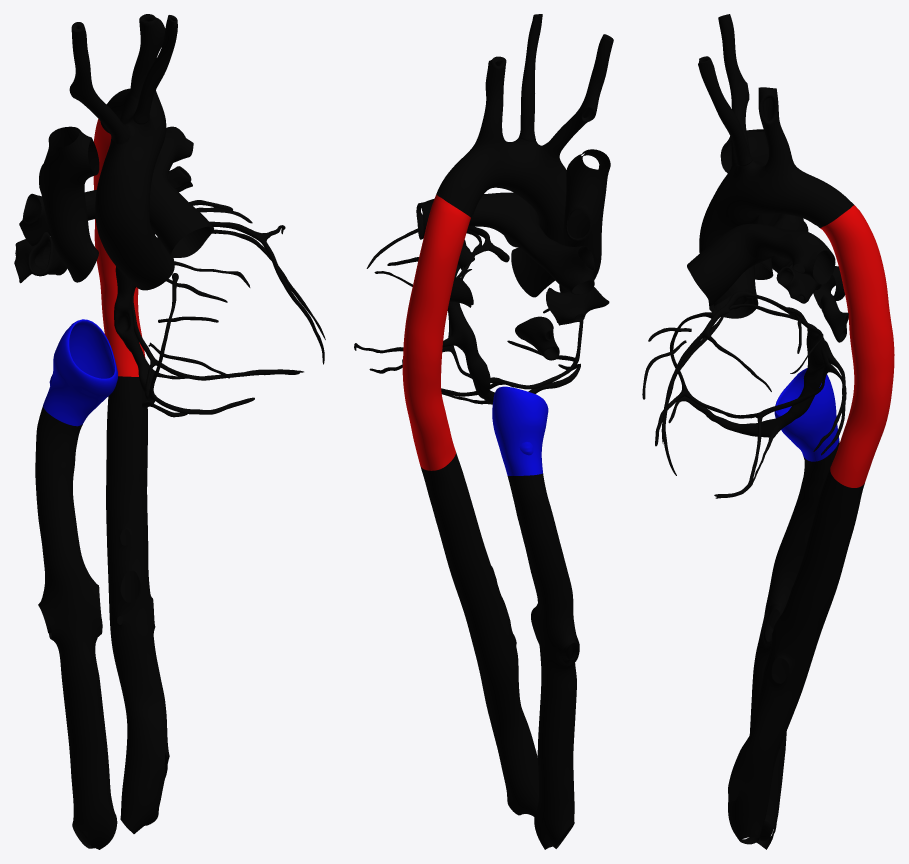
Rendered from VH_F_Heart_Landmarks.fbx.
3 views of the same model, side by side, from view 1: azimuth 30°, elevation 25°; view 2: azimuth 150°, elevation 25°; view 3: azimuth 270°, elevation 25° (orthographic). The views are drawn at different scales.
Visible parts, largest first — view 1: VH_F_heart_landmark_arteries, VH_F_heart_landmark_veins; view 2: VH_F_heart_landmark_arteries, VH_F_heart_landmark_veins; view 3: VH_F_heart_landmark_arteries, VH_F_heart_landmark_veins.
Part boxes in pixels (x1,y1,x2,y2): VH_F_heart_landmark_arteries: (19, 14, 324, 833); VH_F_heart_landmark_veins: (14, 126, 325, 849); VH_F_heart_landmark_arteries: (366, 14, 613, 816); VH_F_heart_landmark_veins: (354, 149, 610, 849); VH_F_heart_landmark_arteries: (655, 14, 894, 844); VH_F_heart_landmark_veins: (642, 129, 848, 849).
Size of the model in its own units: 14.08 by 45.19 by 12.65.
